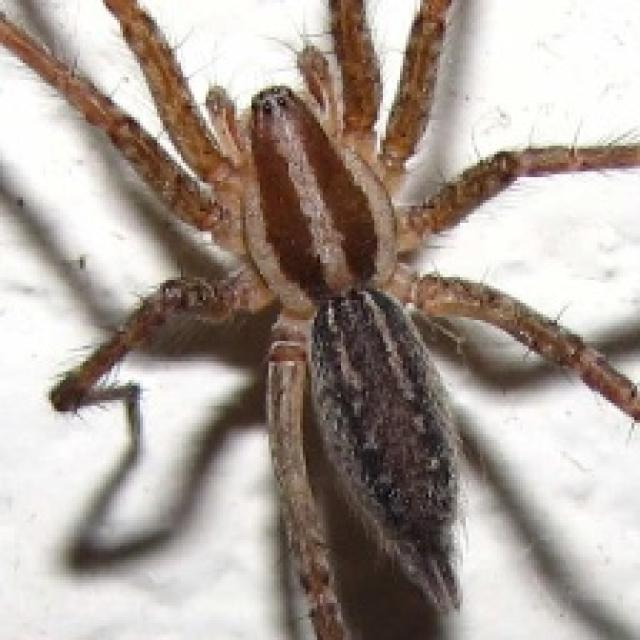Venomous spider: (63, 14, 577, 600)
